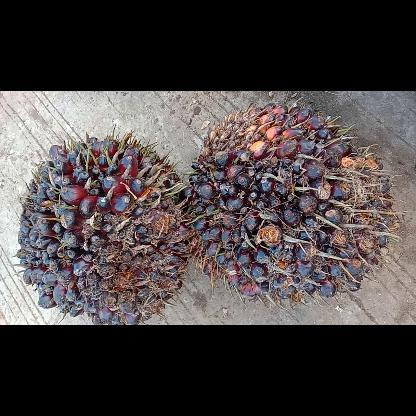TBS mentah: (186, 100, 392, 300), (15, 138, 188, 324)
